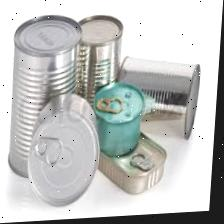metal: (6, 15, 87, 190), (25, 92, 109, 218), (118, 49, 209, 161), (78, 14, 133, 152), (99, 124, 173, 206), (87, 73, 149, 160)
